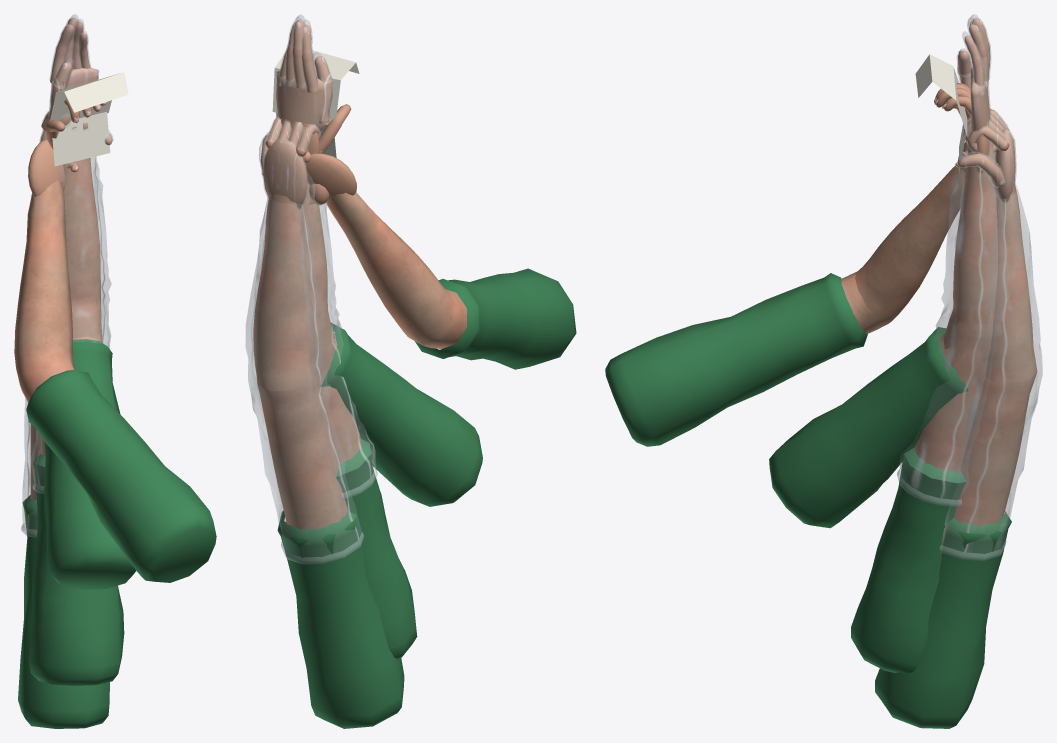
Rendered from arms-D7rDO4m3.glb.
The picture shows the model from 3 angles, left to right: view 1: azimuth 30°, elevation 25°; view 2: azimuth 150°, elevation 25°; view 3: azimuth 270°, elevation 25°; orthographic projection. The views are drawn at different scales.
Visible parts, largest first — view 1: ARM_right_gun, ARM_left_sleeve, ARM_right_towel, ARM_left_tail, ARM_left_hand; view 2: ARM_left_tail, ARM_right_gun, ARM_right_towel, ARM_left_sleeve, ARM_left_hand; view 3: ARM_left_tail, ARM_left_sleeve, ARM_right_gun, ARM_right_towel, ARM_left_hand.
Part boxes in pixels (<box>): ARM_right_gun: <box>14,138,216,582</box>; ARM_left_sleeve: <box>28,156,124,685</box>; ARM_right_towel: <box>44,72,136,589</box>; ARM_left_tail: <box>18,111,113,728</box>; ARM_left_hand: <box>48,14,99,127</box>; ARM_left_tail: <box>245,116,404,728</box>; ARM_right_gun: <box>289,134,576,369</box>; ARM_right_towel: <box>272,50,482,506</box>; ARM_left_sleeve: <box>262,149,417,658</box>; ARM_left_hand: <box>275,14,332,133</box>; ARM_left_tail: <box>875,109,1042,728</box>; ARM_left_sleeve: <box>851,141,1008,672</box>; ARM_right_gun: <box>605,141,996,446</box>; ARM_right_towel: <box>769,54,992,528</box>; ARM_left_hand: <box>957,14,991,132</box>.
Size of the model in its own units: 0.2481 by 1.13 by 0.624.
9 materials, 2 textured.
